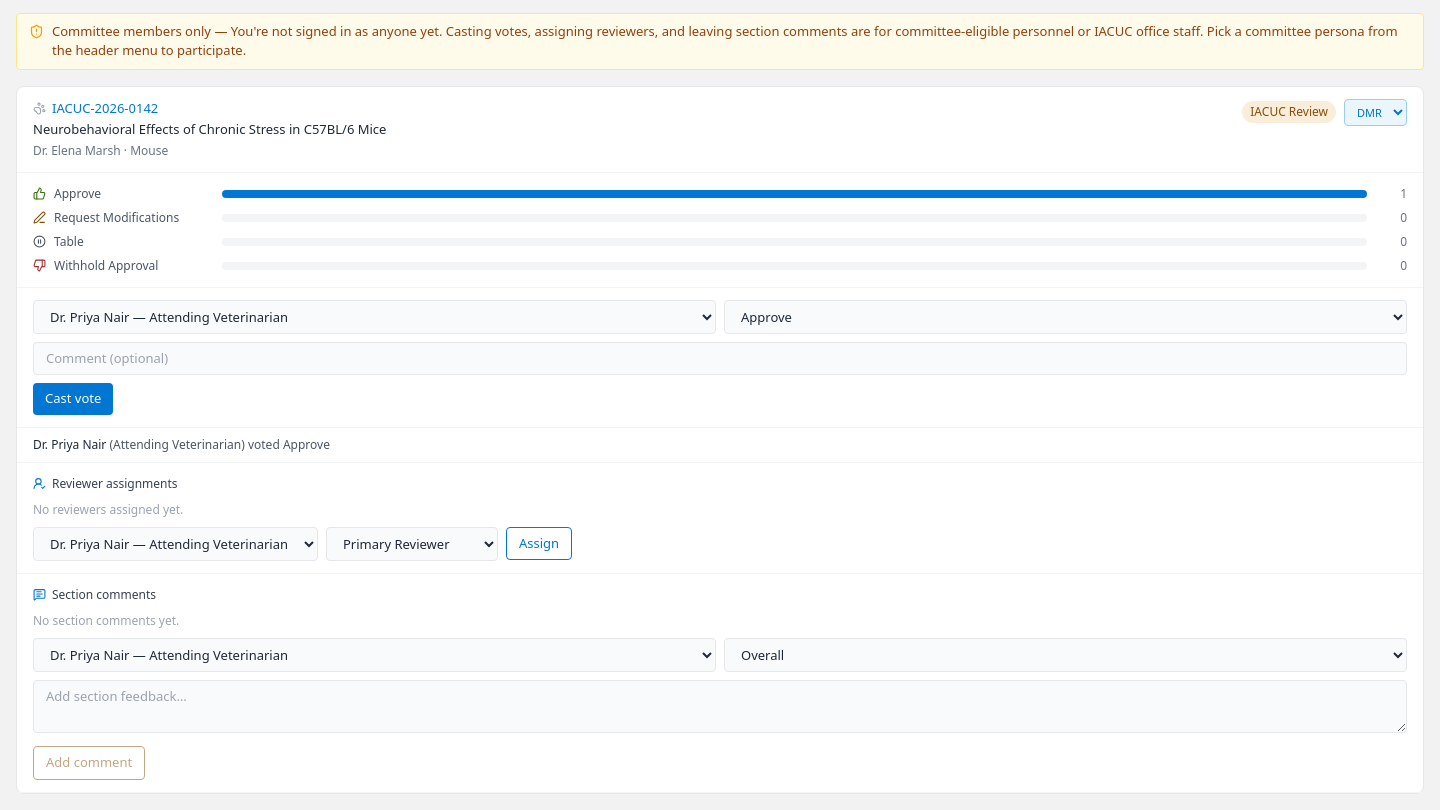
Test: CommitteePage › disables the Add comment button until comment text is present
The width and height of the screenshot is (1440, 810).
(page scrolled)
Expected: the text "IACUC-2026-0142" is shown, [33,98,158,116]
Expected: the button "Add comment" is disabled, [33,746,145,780]
In the text box with placeholder "Add section feedback…": (720, 706) [33,680,1407,732], type "please expand"
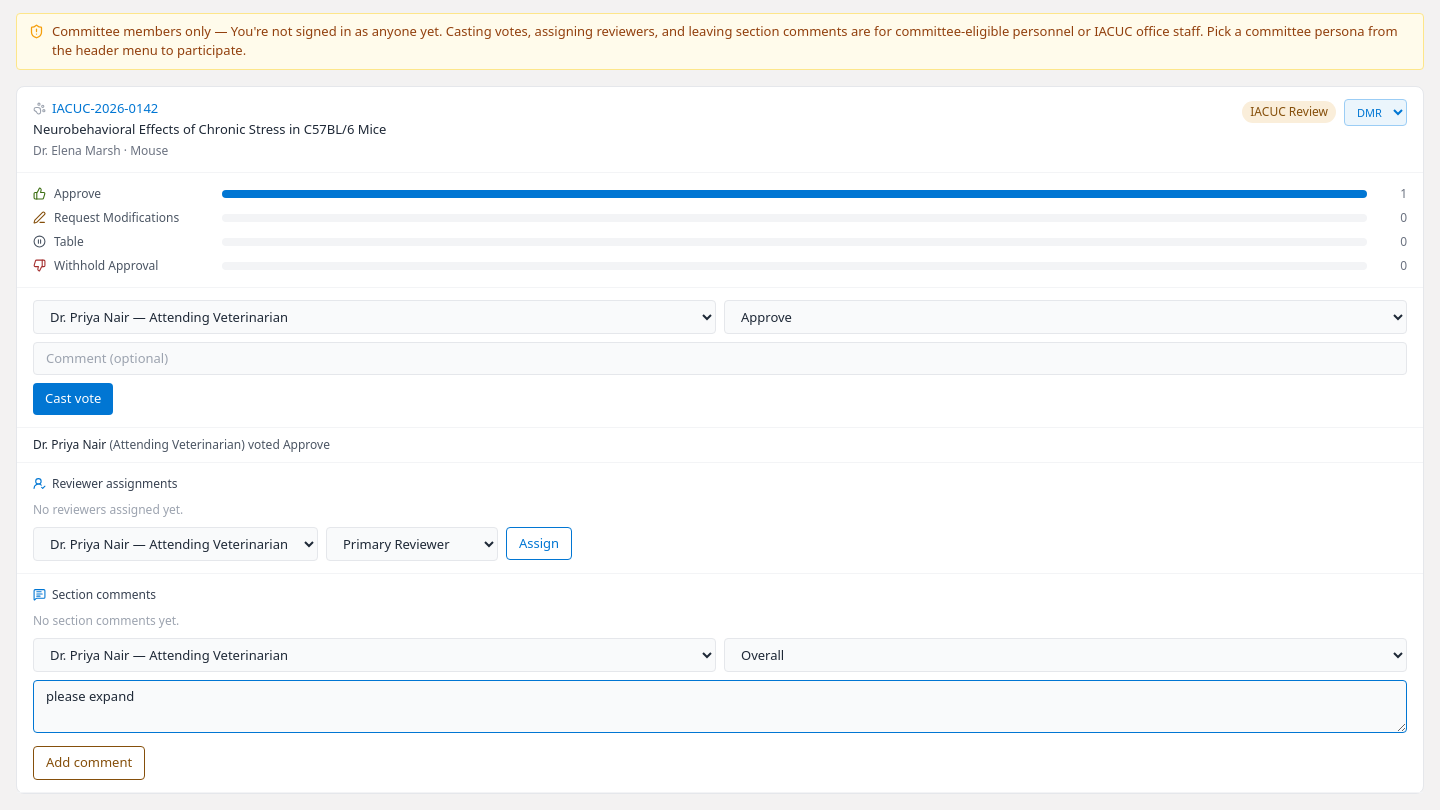
Result: the button "Add comment" is enabled at [33,746,145,780]
